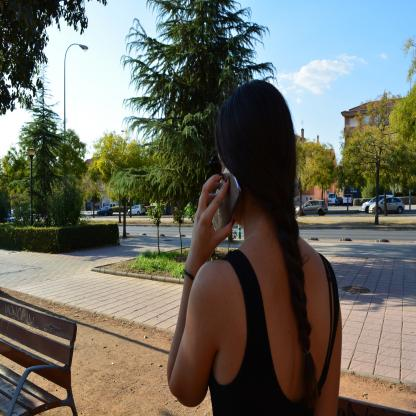smartphone: (212, 166, 242, 232)
